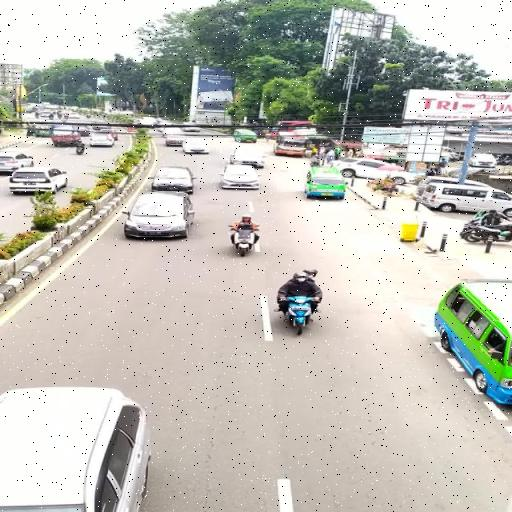Helmet: (291, 268, 310, 286), (242, 214, 250, 224)
Motor: (274, 293, 324, 339), (229, 230, 259, 257)
